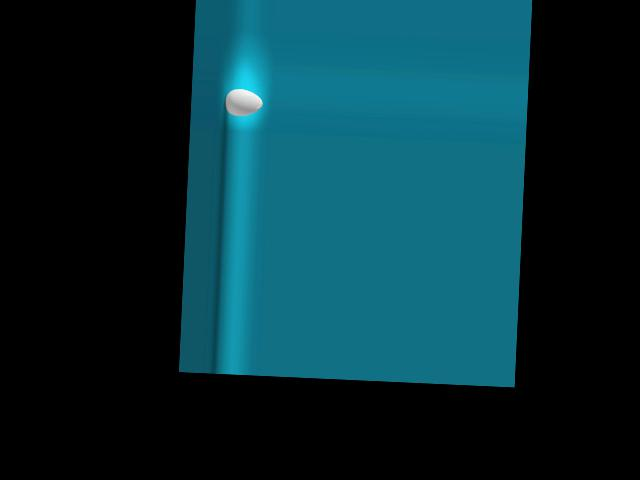egg: (224, 88, 262, 117)
